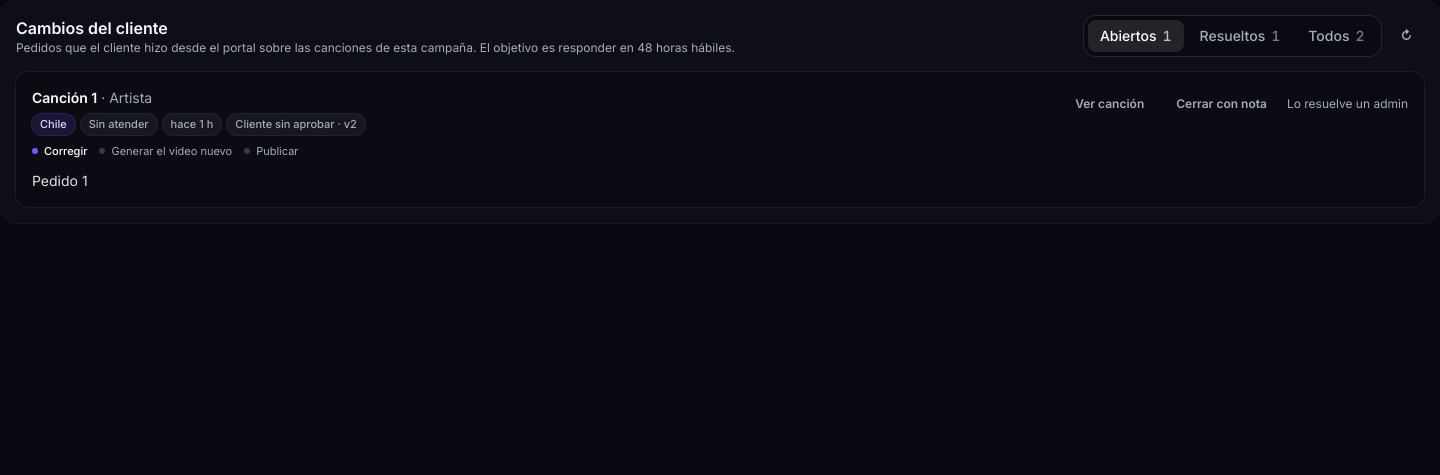
Test: client changes inbox › keeps the note and shows the error when closing fails
Step 1. Click the button "Cerrar con nota" → click(1222, 104), box [1164,88,1279,120]
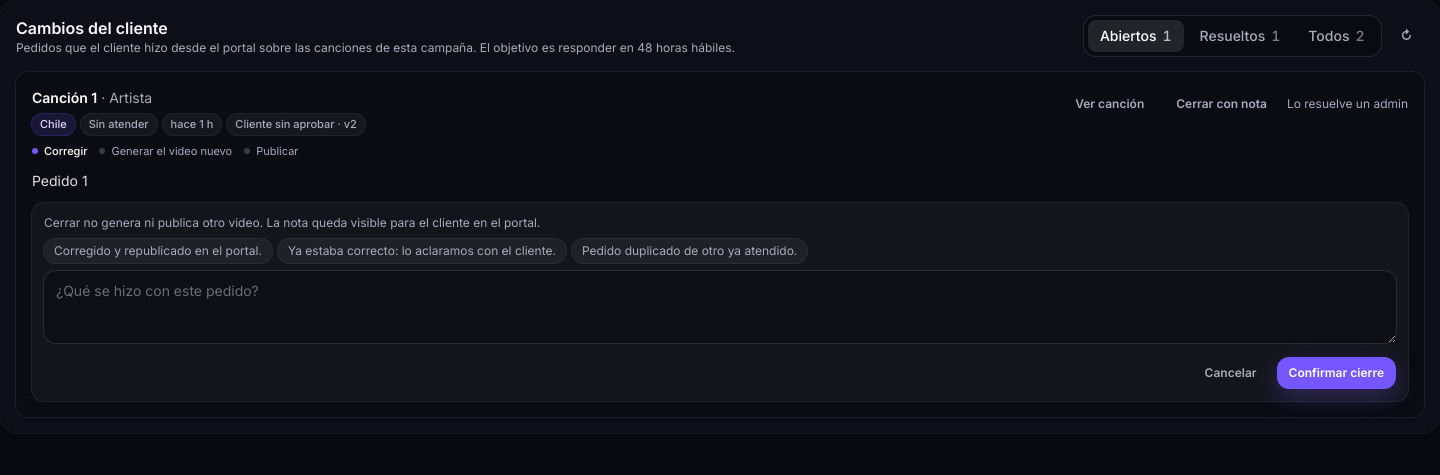
Step 2. Type "Hecho" into the text box named "Nota para el cliente" → (720, 307), box [44,271,1396,343]
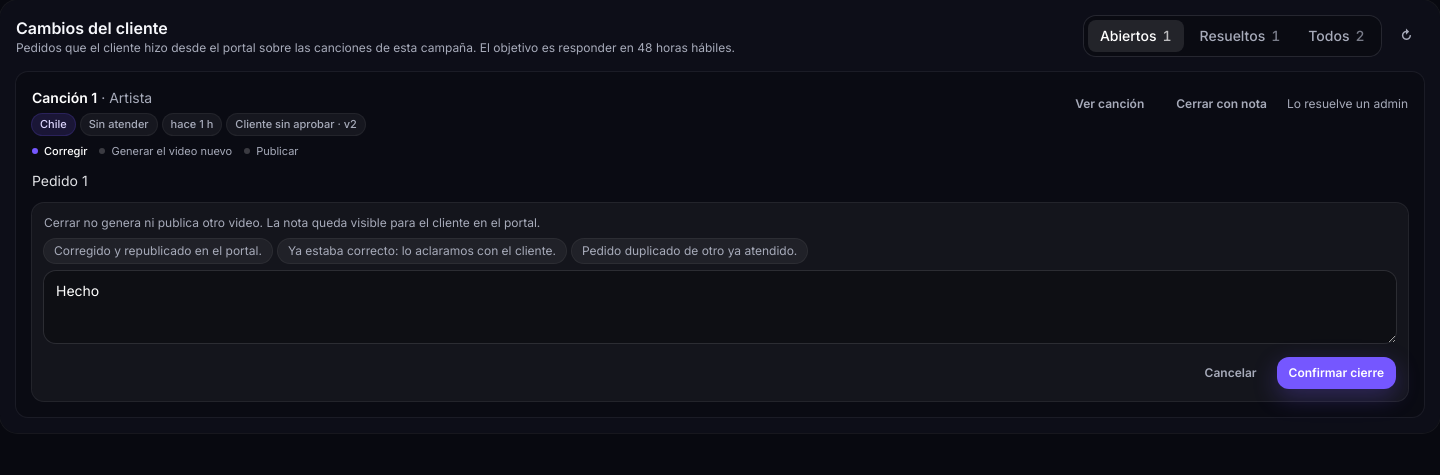
Step 3. Click the button "Confirmar cierre" → click(1336, 373), box [1277,357,1396,389]
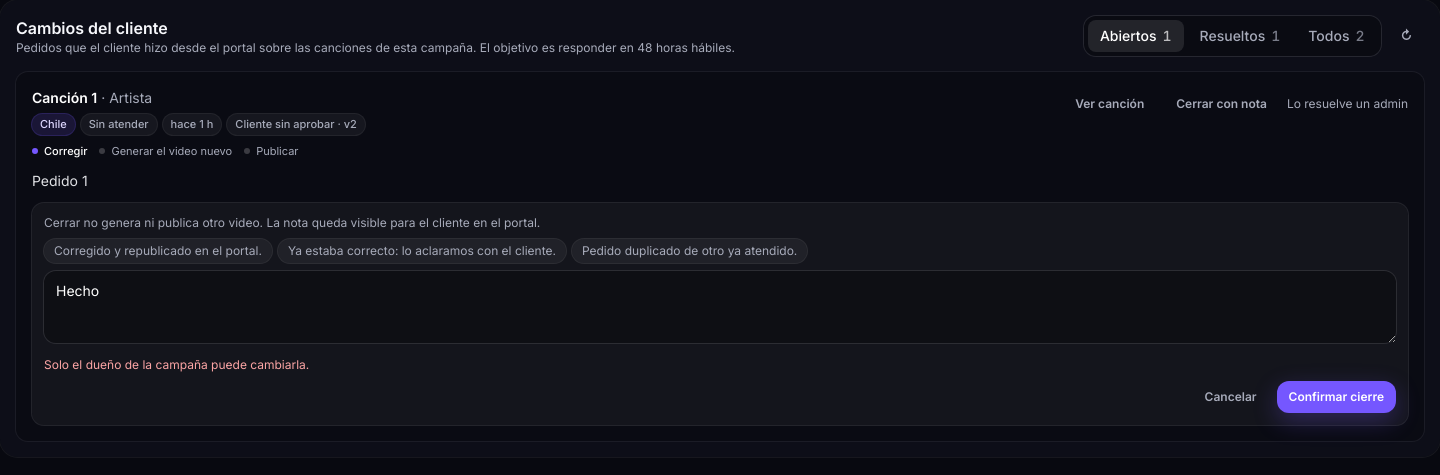
Expected: the text "Solo el dueño de la campaña puede cambiarla." is shown, [44,357,309,372]
